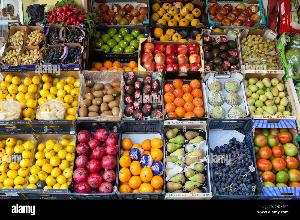apple: (137, 42, 200, 73), (86, 28, 148, 54), (206, 1, 266, 26), (89, 3, 155, 25)
apricot: (150, 0, 206, 40)
avocado: (124, 74, 163, 122), (205, 31, 241, 73)
grape: (208, 124, 262, 196), (241, 31, 283, 73), (42, 48, 62, 68), (6, 28, 26, 46), (63, 46, 83, 64), (21, 47, 40, 65), (46, 26, 63, 44), (24, 27, 42, 43), (64, 28, 84, 42), (3, 48, 19, 63)
kiwi: (78, 75, 120, 119)
lemon: (32, 130, 72, 192), (39, 71, 79, 121), (0, 72, 40, 120), (0, 132, 34, 188)
mango: (252, 128, 300, 196)
orange: (119, 132, 165, 190), (162, 80, 206, 122), (86, 52, 146, 74)
pear: (240, 73, 298, 118), (168, 131, 204, 197)
pomegranate: (74, 129, 116, 193)
radish: (46, 1, 90, 26)
